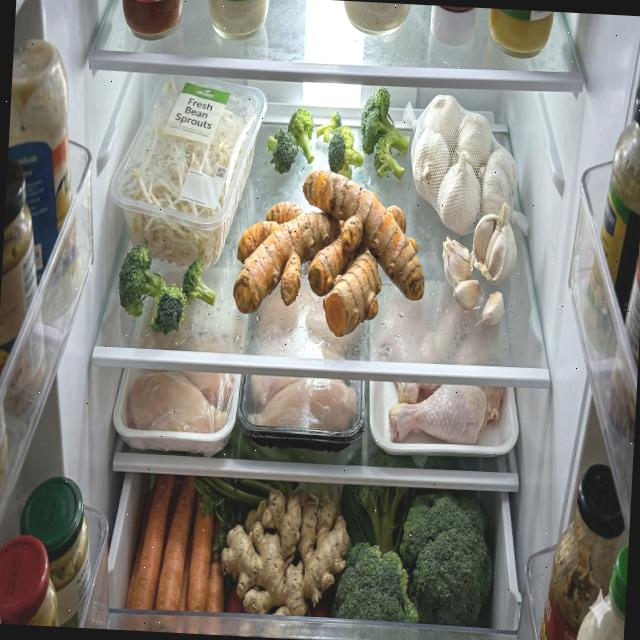bean_sprouts: (127, 82, 249, 270)
brocolli: (334, 484, 498, 628), (116, 240, 218, 337), (358, 86, 412, 180), (314, 109, 366, 182), (266, 106, 318, 176)
carrot: (124, 470, 230, 614)
chicken: (387, 380, 504, 448), (127, 368, 236, 436), (248, 374, 360, 432)
garlic: (402, 94, 525, 328)
ginger: (219, 488, 353, 620)
turmeric: (232, 165, 430, 342)
